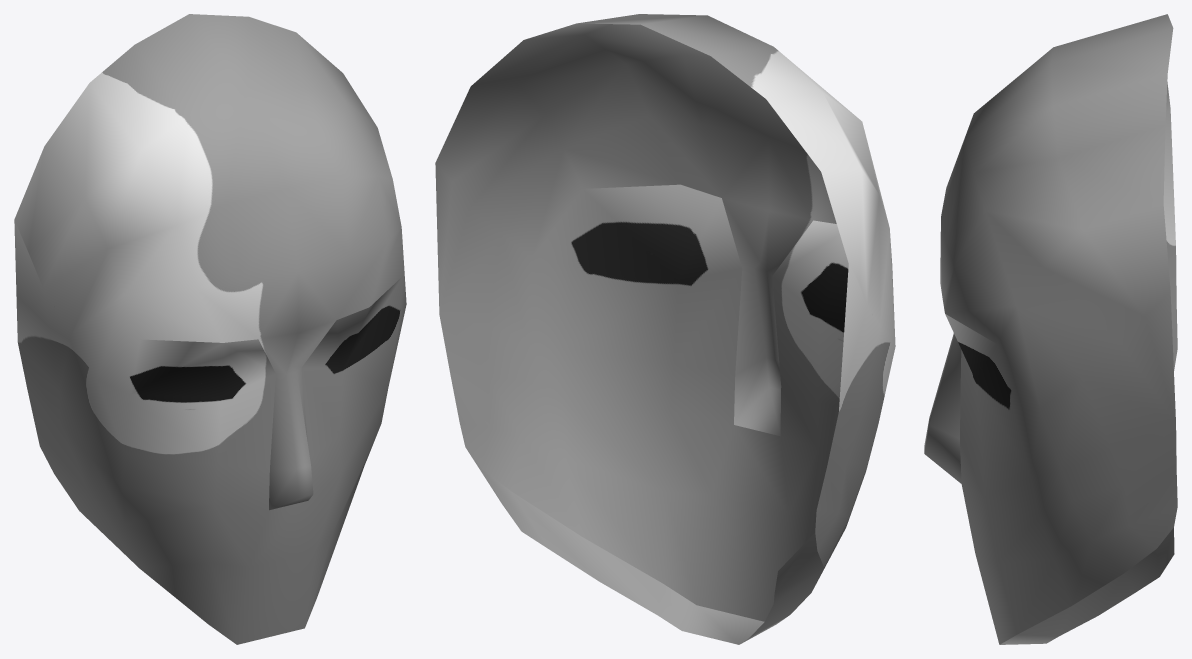
File: Enemy_mask_white2.fbx
3 views of the same model, side by side, from view 1: azimuth 30°, elevation 25°; view 2: azimuth 150°, elevation 25°; view 3: azimuth 270°, elevation 25° (orthographic). The views are drawn at different scales.
Visible parts, largest first — view 1: White_mask01.002; view 2: White_mask01.002; view 3: White_mask01.002.
Part boxes in pixels (x1,y1,x2,y2): White_mask01.002: [14, 14, 406, 644]; White_mask01.002: [435, 14, 895, 644]; White_mask01.002: [924, 14, 1177, 644].
Bounding box in the file's own units: 15.34 × 23.57 × 8.98.
Materials: 1 (1 with a texture image).
